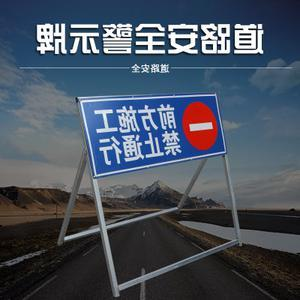sign: (72, 88, 230, 179)
